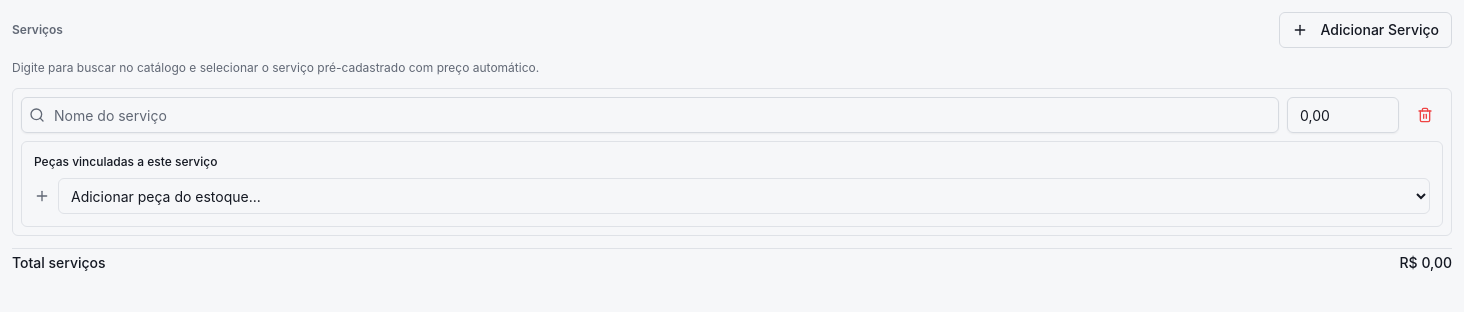
Test: AjusteOrcamentoServicos › mostra mensagem quando catálogo não retorna resultados
Type "XYZ999" into the field with placeholder "Nome do serviço" at (650, 115), box 21,97 -> 1279,133
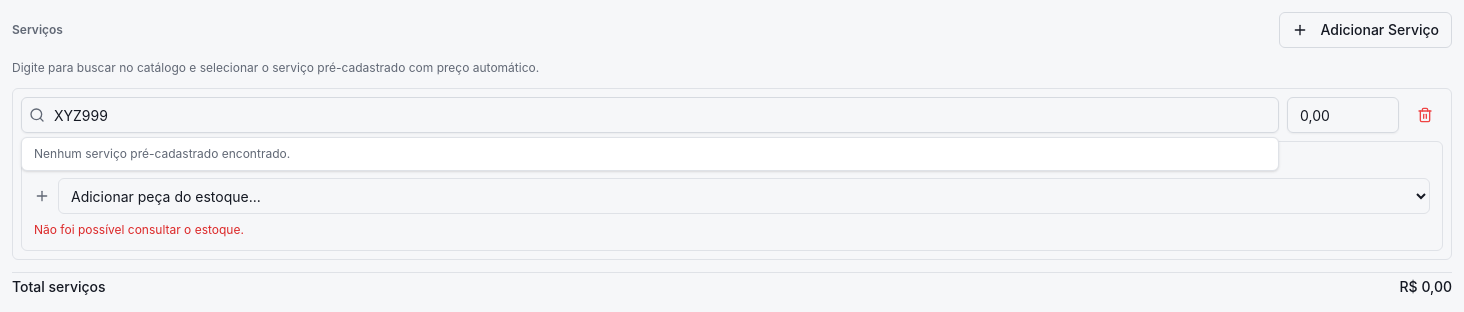
Expected: the text "Nenhum serviço pré-cadastrado encontrado." is shown, 34,146 -> 290,161
